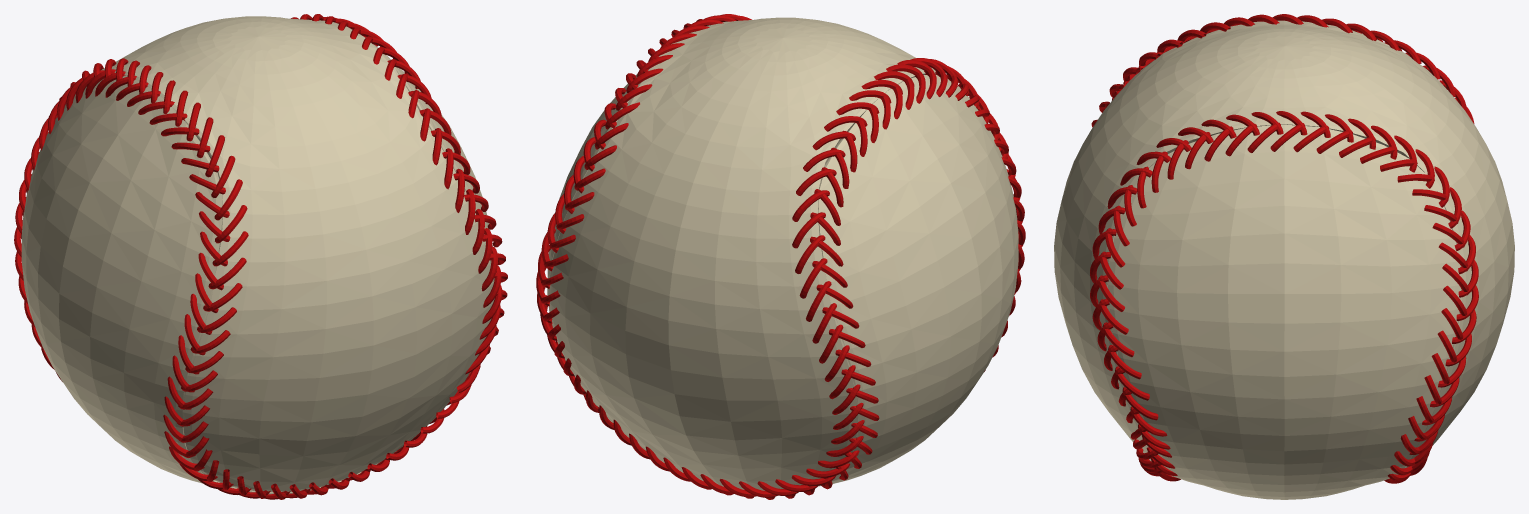
File: baseball.fbx
3 views of the same model, side by side, from view 1: azimuth 30°, elevation 25°; view 2: azimuth 150°, elevation 25°; view 3: azimuth 270°, elevation 25° (orthographic).
Visible parts, largest first — view 1: ball, stitches; view 2: ball, stitches; view 3: ball, stitches.
Part boxes in pixels (x1=…): ball: x1=21, y1=16, x2=494, y2=494; stitches: x1=14, y1=14, x2=507, y2=499; ball: x1=547, y1=17, x2=1018, y2=490; stitches: x1=536, y1=14, x2=1025, y2=499; ball: x1=1054, y1=20, x2=1514, y2=499; stitches: x1=1090, y1=14, x2=1478, y2=483.
Size of the model in its own units: 193 by 200 by 193.
